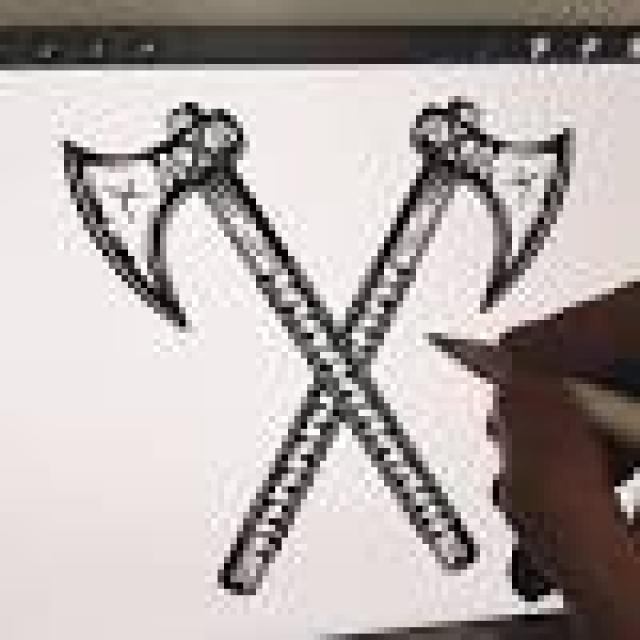Gun: (39, 119, 493, 565), (259, 102, 590, 582)
